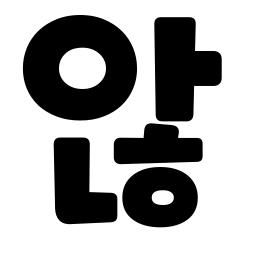Gaji: (144, 43, 211, 99)
